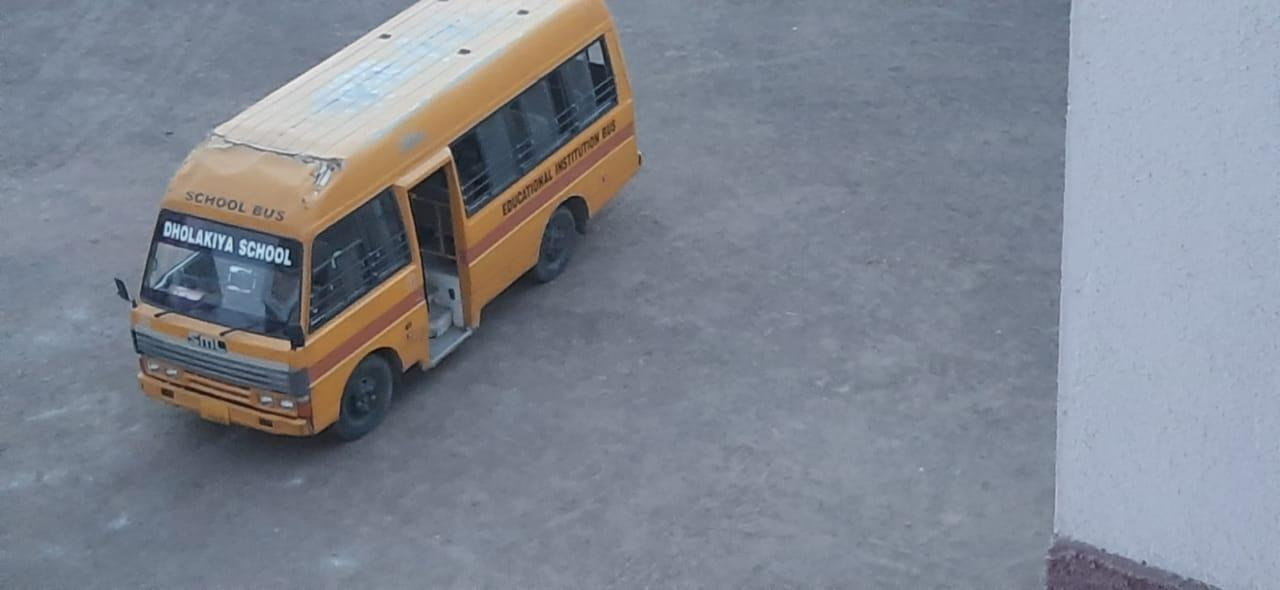Bus: (114, 9, 662, 457)
